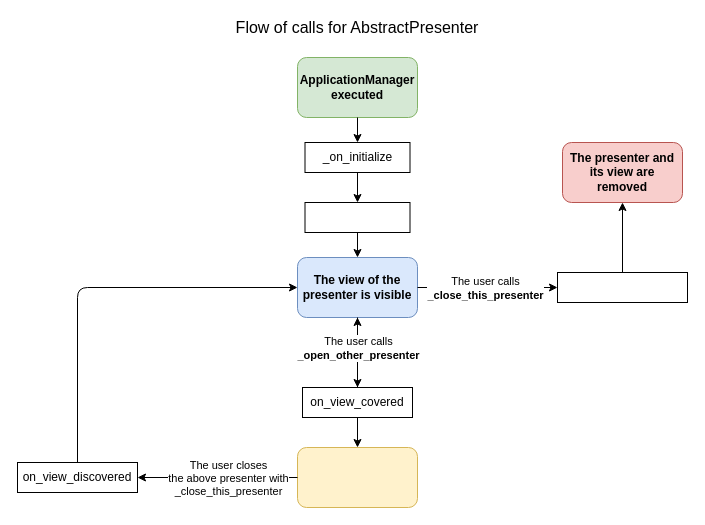
Image size: 705x525. Some labels were removed from this diagram. Each missing label, with the box of its shape:
on_closing_presenter: (556, 272, 688, 302)
on_view_shown: (304, 202, 410, 232)
The view of the presenter is hidden under the new one: (296, 446, 418, 508)
